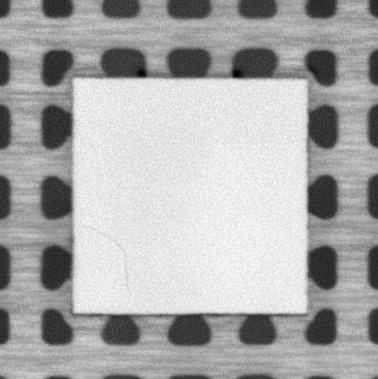DIE_CRACK: (84, 226, 132, 293)
